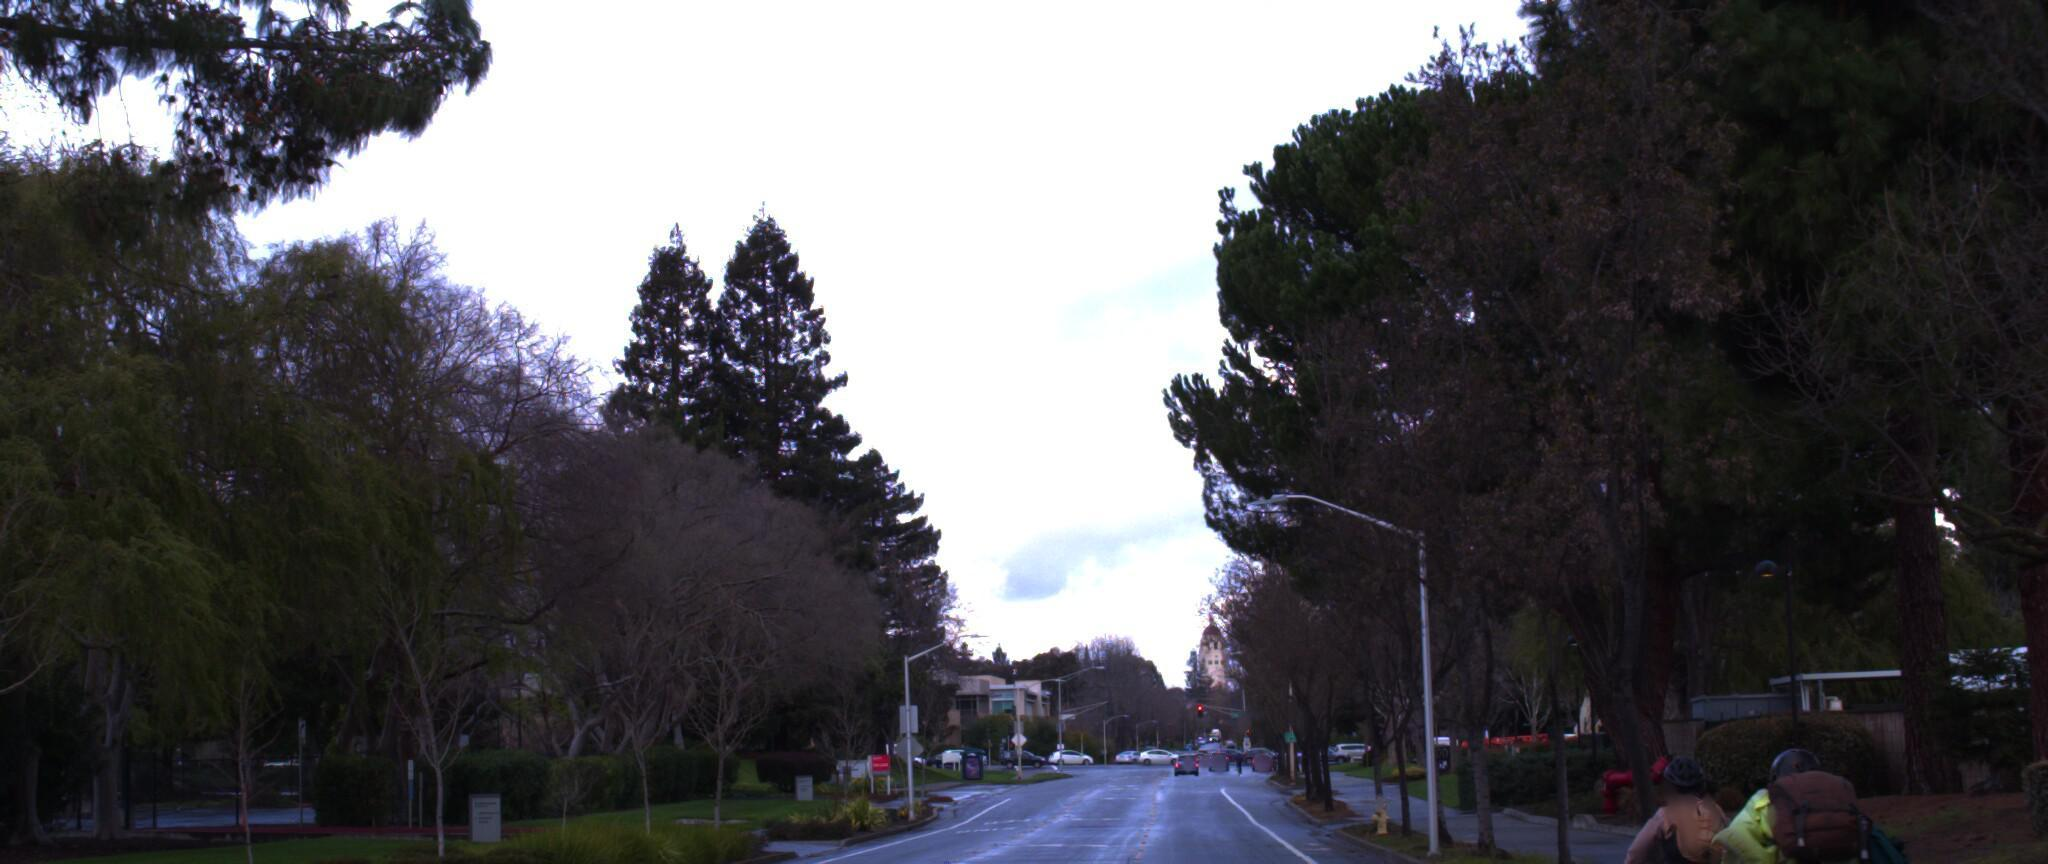bicycle: (1672, 703, 1992, 864), (1607, 737, 1785, 864)
